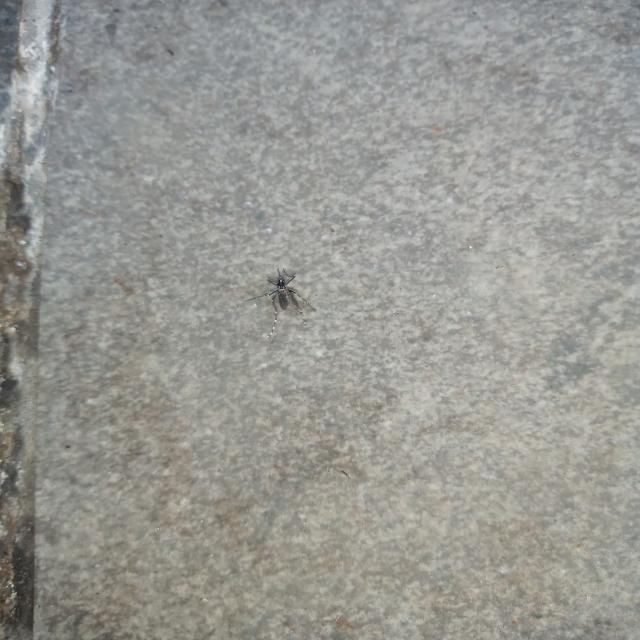albopictus: (239, 264, 320, 342)
